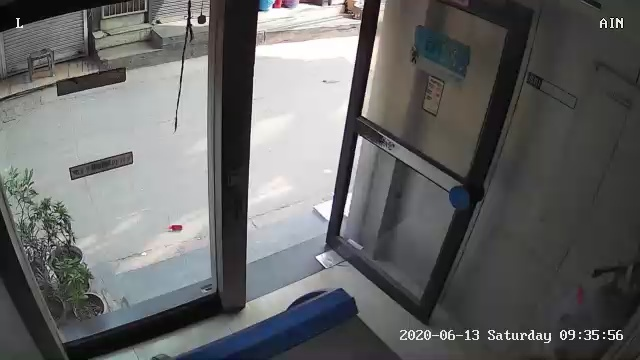open: (197, 8, 545, 324)
